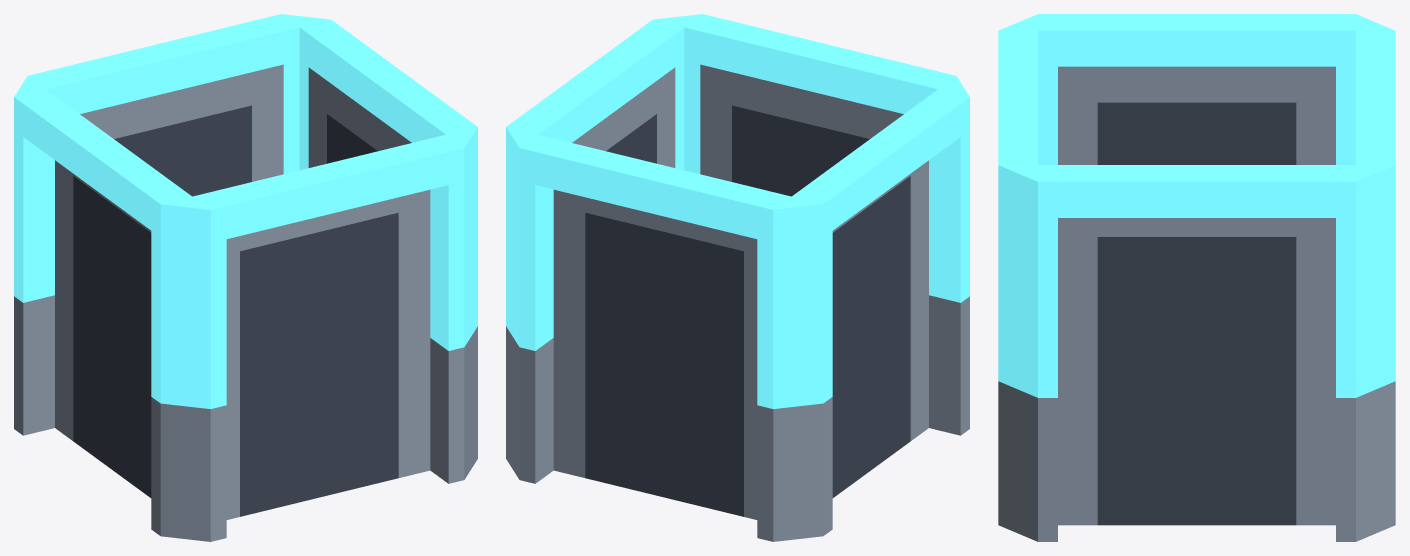
Rendered from structure_closed.glb.
3 views of the same model, side by side, from view 1: azimuth 30°, elevation 25°; view 2: azimuth 150°, elevation 25°; view 3: azimuth 270°, elevation 25° (orthographic). The views are drawn at different scales.
Visible parts, largest first — view 1: structure_closed; view 2: structure_closed; view 3: structure_closed.
Part boxes in pixels (x1=…): structure_closed: x1=14, y1=14, x2=477, y2=541; structure_closed: x1=506, y1=14, x2=969, y2=541; structure_closed: x1=998, y1=14, x2=1395, y2=541.
Bounding box in the file's own units: 1 × 1 × 1.
